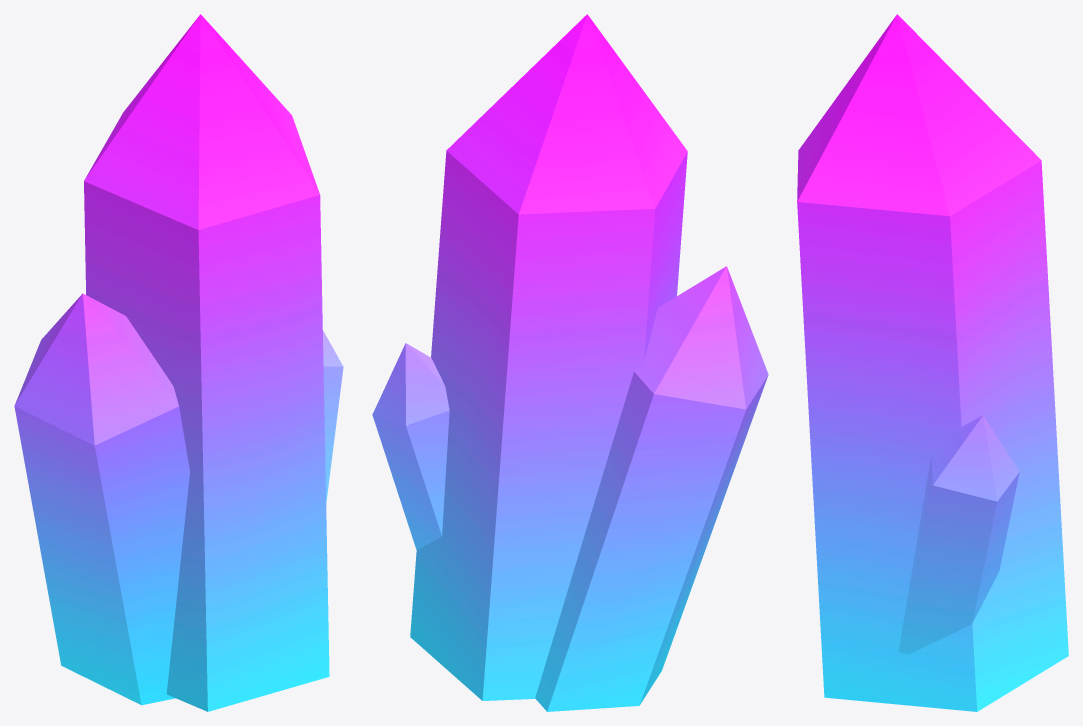
The model's file is CRYSTAL.glb.
3 renders of one model, left to right at view 1: azimuth 30°, elevation 25°; view 2: azimuth 150°, elevation 25°; view 3: azimuth 270°, elevation 25°, orthographic. The views are drawn at different scales.
Visible parts, largest first — view 1: Plane.032_Plane.083; view 2: Plane.032_Plane.083; view 3: Plane.032_Plane.083.
Part boxes in pixels (bbox=[...]): Plane.032_Plane.083: bbox=[14, 14, 343, 711]; Plane.032_Plane.083: bbox=[372, 14, 768, 711]; Plane.032_Plane.083: bbox=[797, 14, 1068, 711].
Bounding box in the file's own units: 0.9675 × 1.79 × 0.6766.
1 material, 1 textured.
